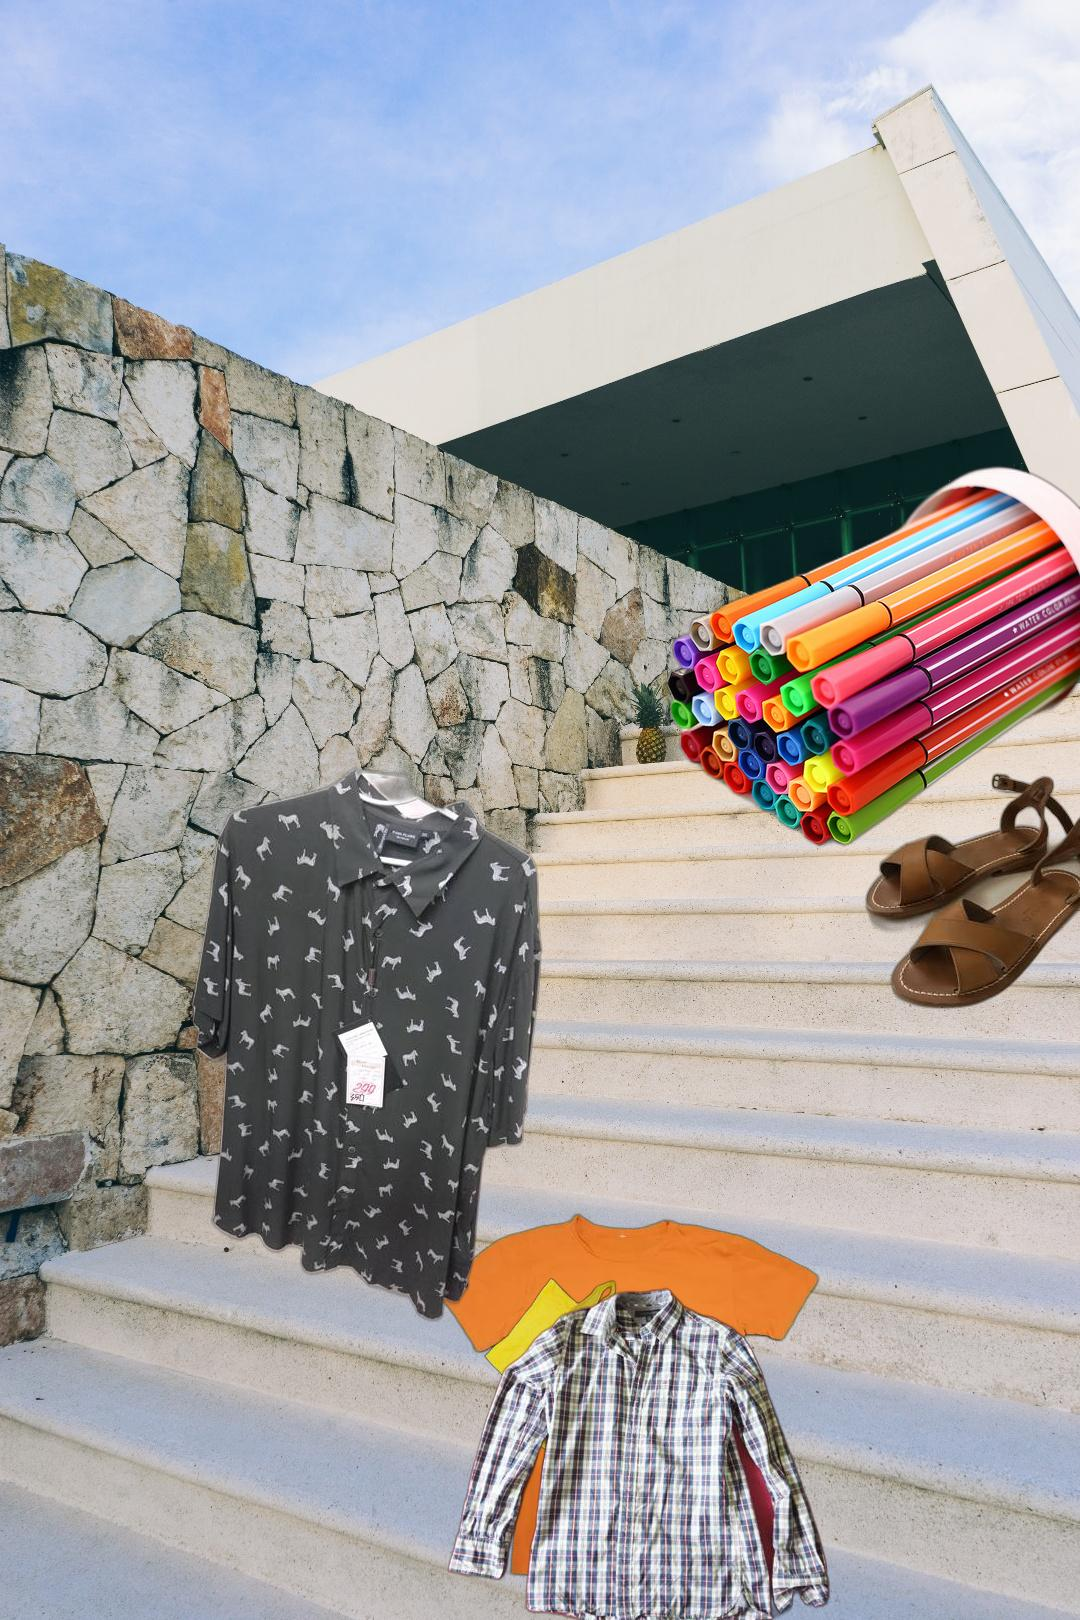clothes: (189, 761, 546, 1326), (372, 1211, 824, 1593), (444, 1285, 833, 1620)
penholder: (662, 460, 1080, 852)
plastic-bag: (482, 1275, 697, 1524)
shoes: (862, 769, 1080, 1043)
